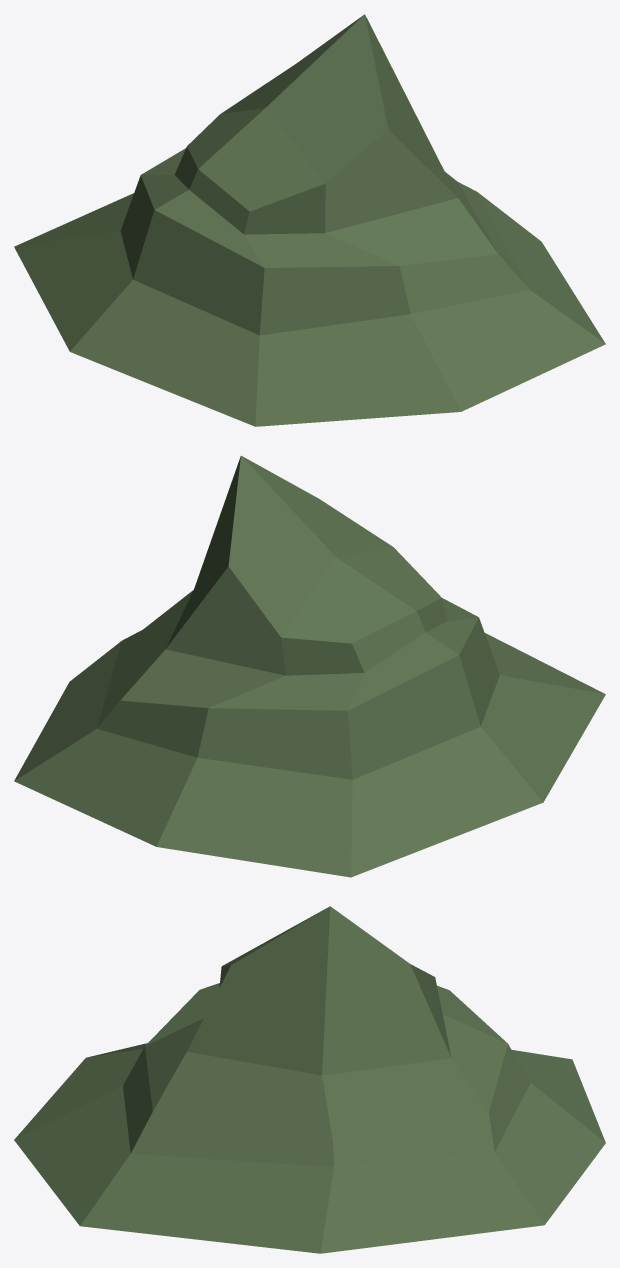
Rendered from mossStoneC-compressed.glb.
3 renders of one model, top to bottom at view 1: azimuth 30°, elevation 25°; view 2: azimuth 150°, elevation 25°; view 3: azimuth 270°, elevation 25°, orthographic. The views are drawn at different scales.
Parts seen in each view (by area): view 1: mossStoneC; view 2: mossStoneC; view 3: mossStoneC.
Part boxes in pixels (box(x1,y1,x2,y2)): mossStoneC: box(14, 14, 605, 426); mossStoneC: box(14, 455, 605, 877); mossStoneC: box(14, 906, 605, 1253).
Bounding box in the file's own units: 2.2 × 1.2 × 2.44.
